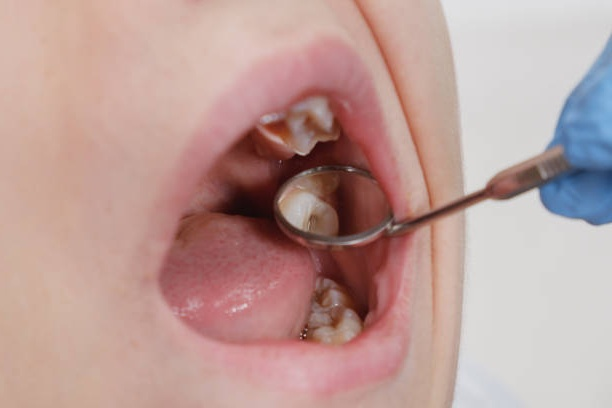Caries: (303, 208, 322, 233)
